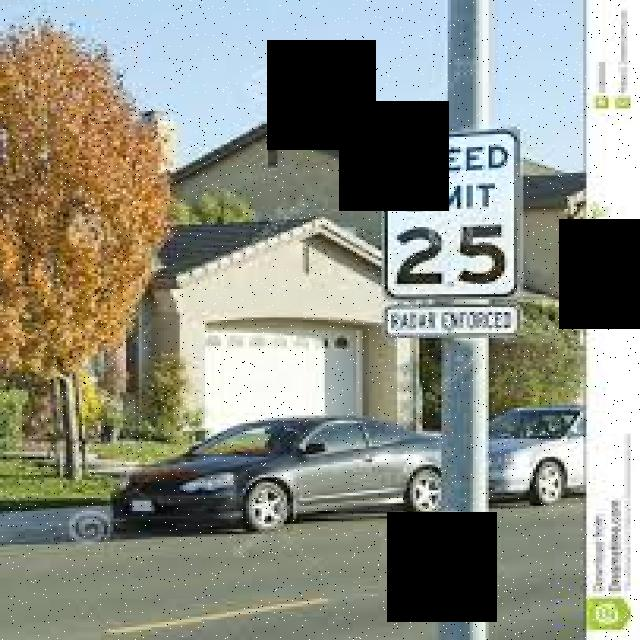regulatory: (382, 125, 523, 298), (384, 303, 526, 336)
